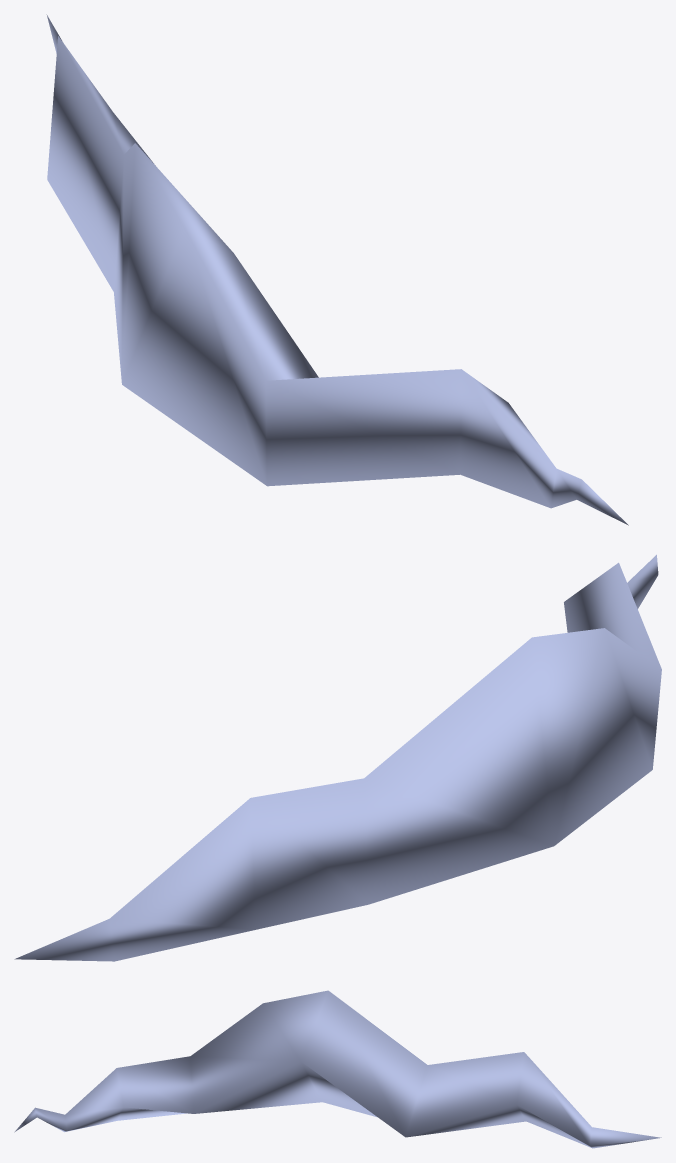
The model's file is fog.glb.
The picture shows the model from 3 angles, top to bottom: view 1: azimuth 30°, elevation 25°; view 2: azimuth 150°, elevation 25°; view 3: azimuth 270°, elevation 25°; orthographic projection. The views are drawn at different scales.
Parts seen in each view (by area): view 1: Plane.005; view 2: Plane.005; view 3: Plane.005.
Boxes of the visible parts, x1,y1,x2,y2 form: Plane.005: [46, 14, 628, 525]; Plane.005: [14, 554, 661, 961]; Plane.005: [14, 990, 661, 1148].
Bounding box in the file's own units: 1.89 × 1.68 × 8.05.
